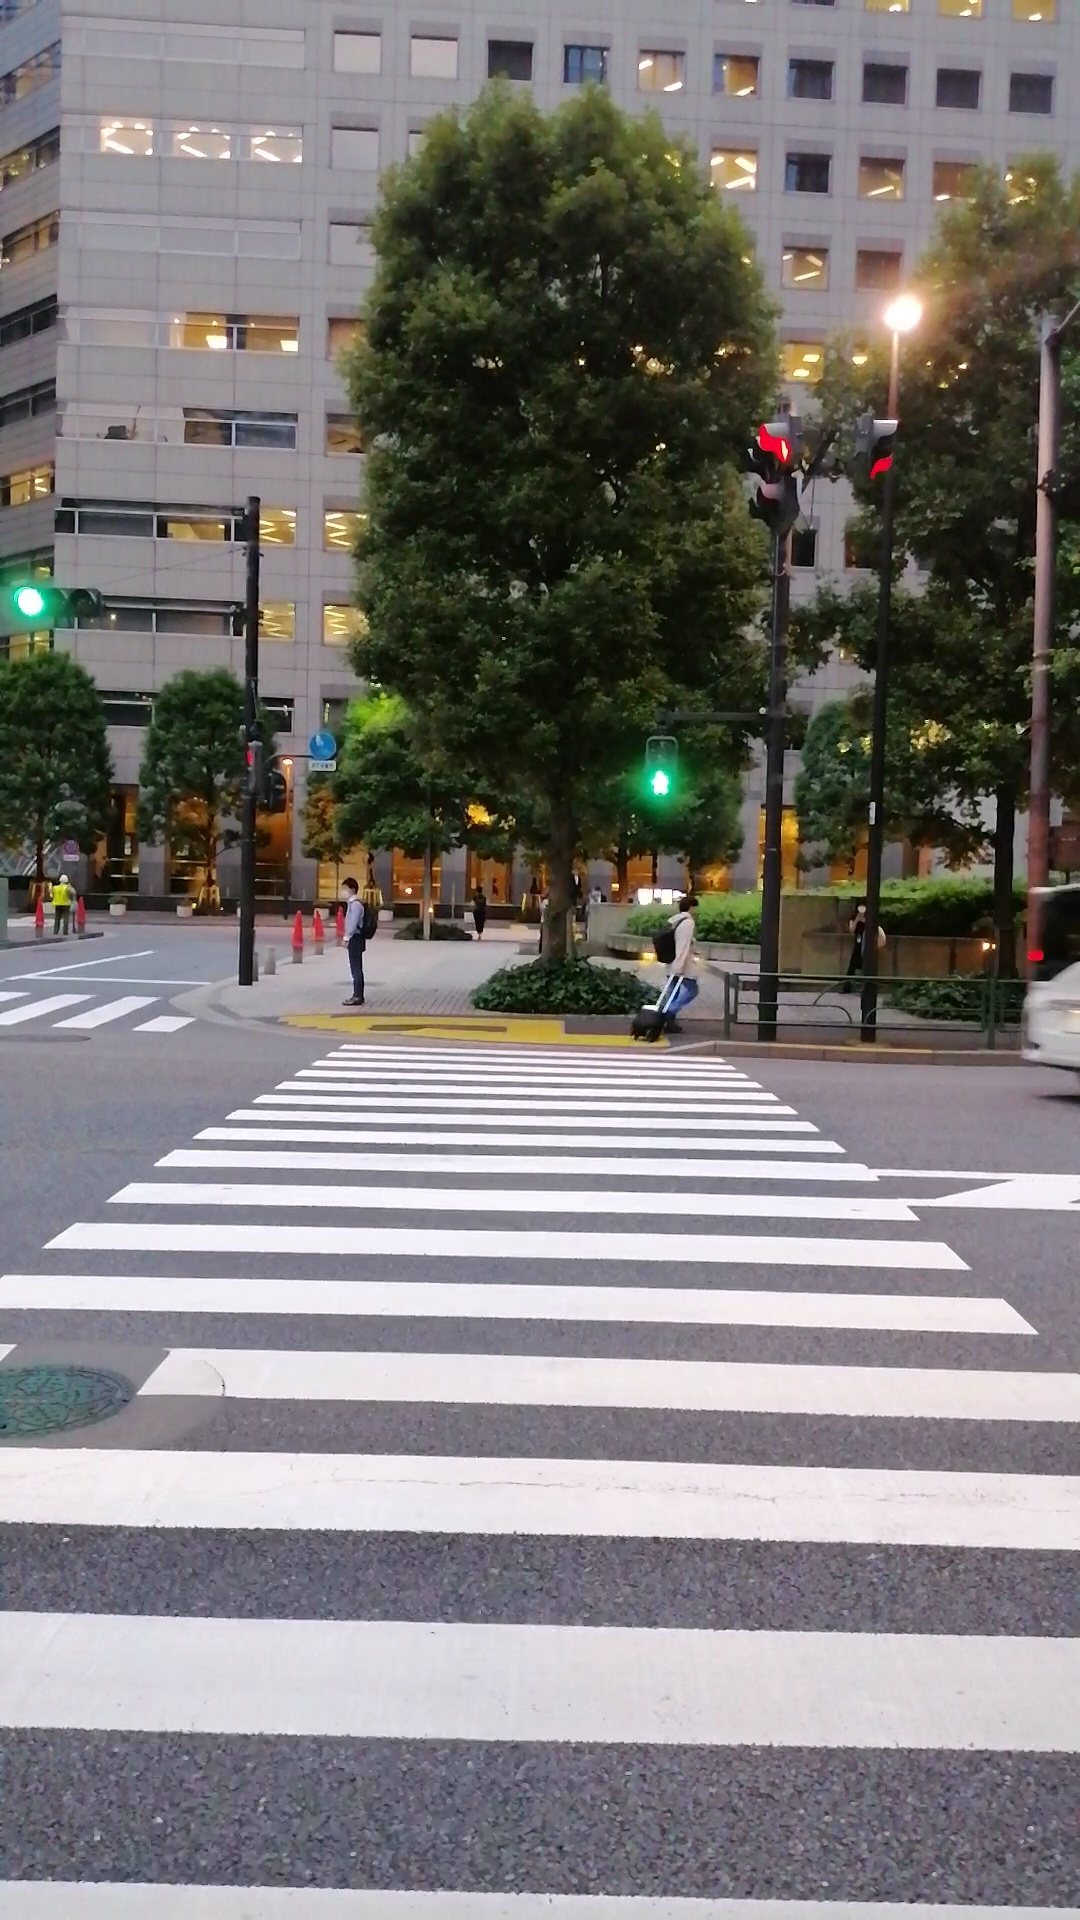green: (644, 735, 676, 803)
